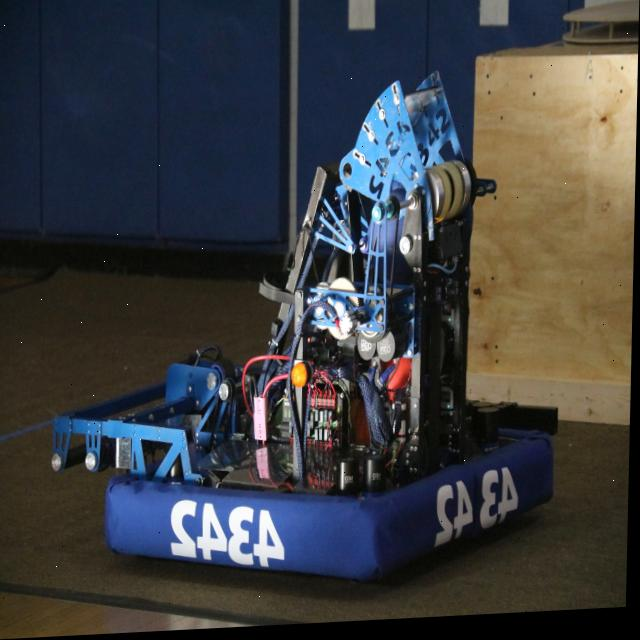robot: (51, 72, 561, 597)
